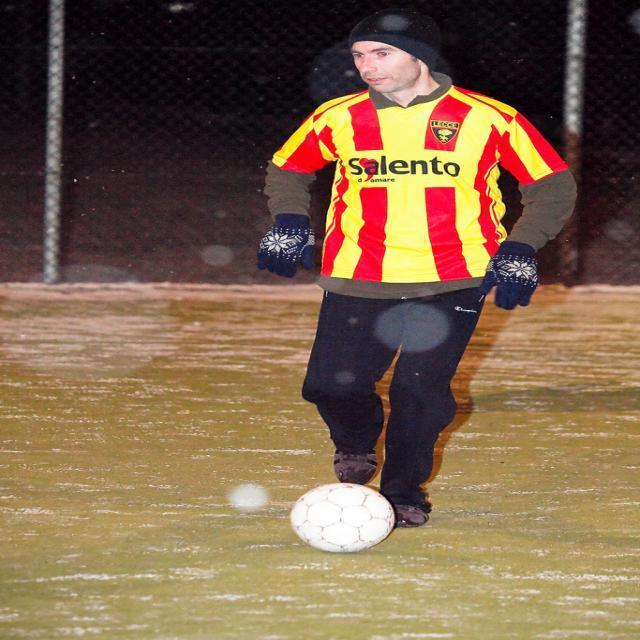football: (273, 465, 409, 561)
